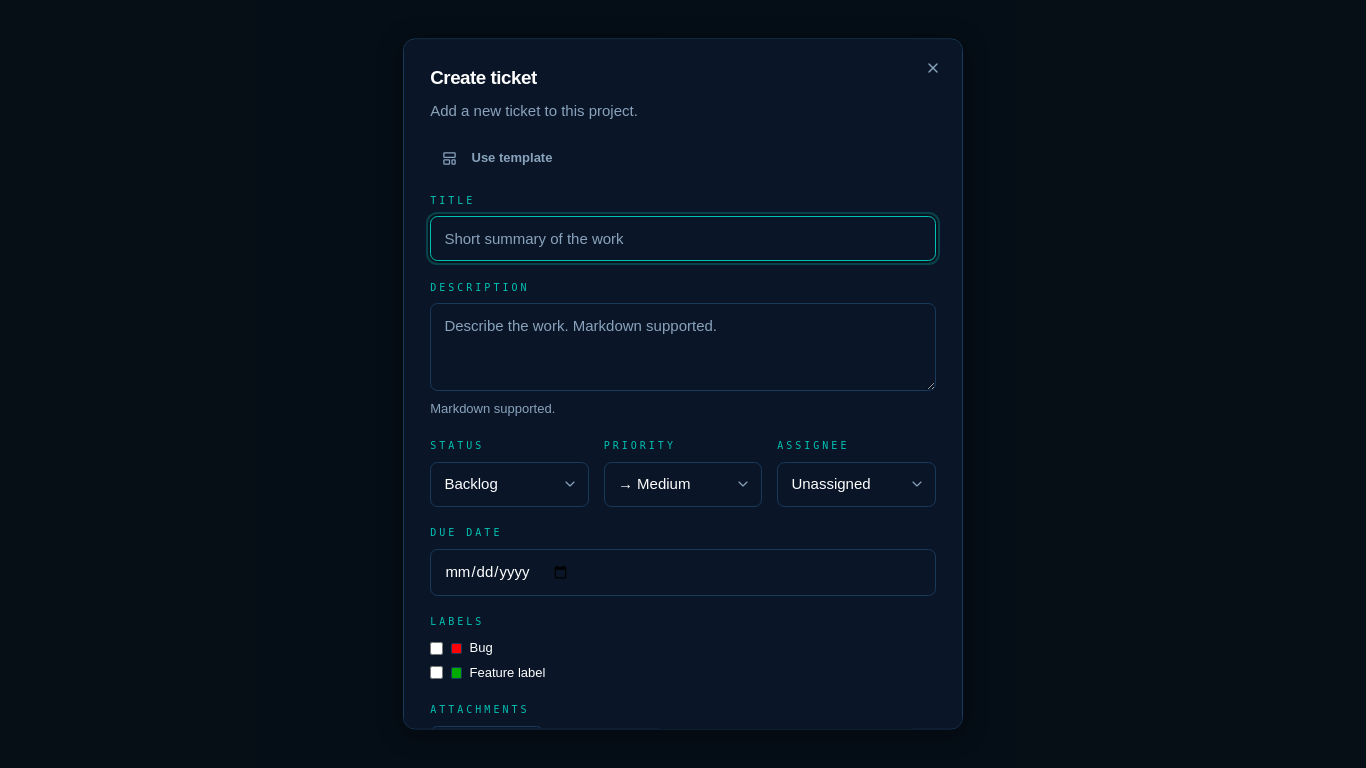
Test: CreateTicketDialog — templates and labels › clicking "Use template" opens a popover with one row per template and a priority badge
Click the button "Use template".
click(497, 158)  # box [430, 142, 564, 174]
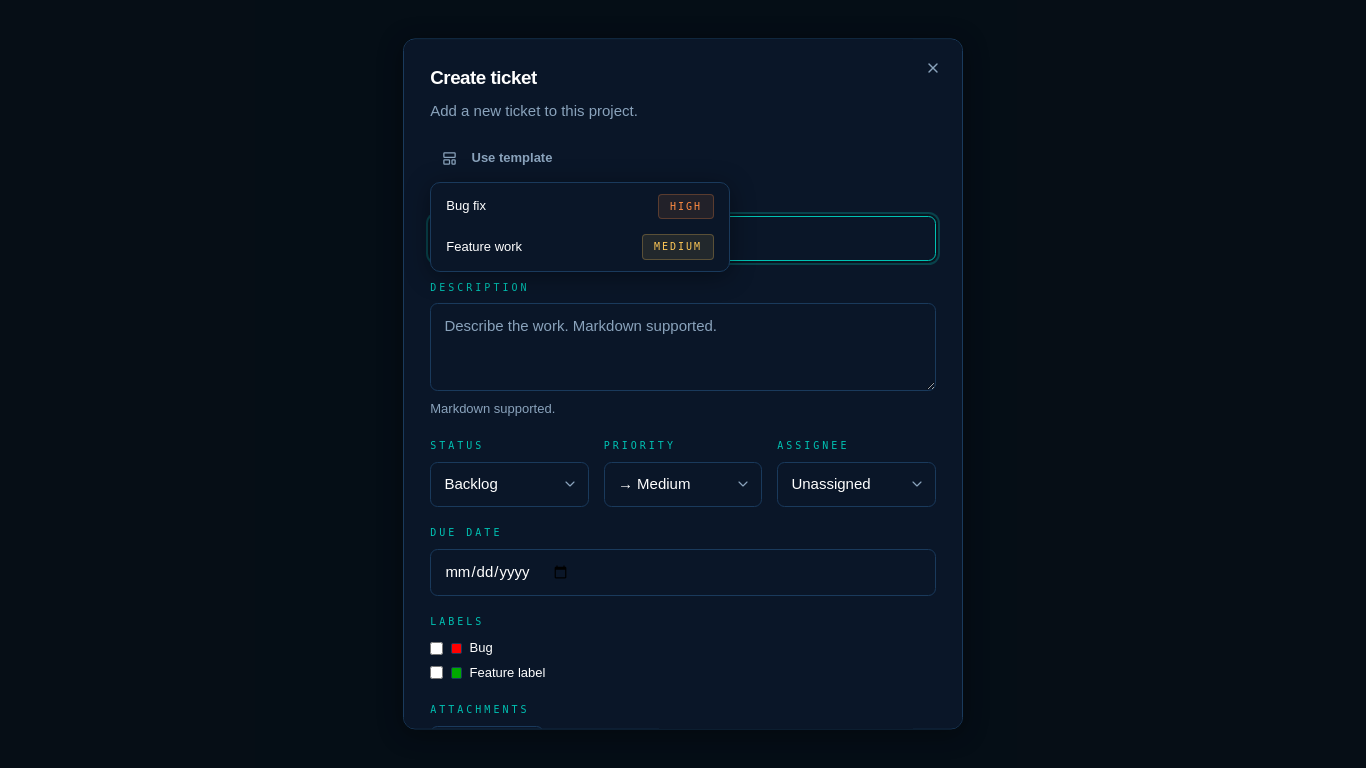
Now the text "Bug fix" is shown, box [446, 197, 486, 218]
Now the text "Feature work" is shown, box [446, 237, 522, 258]
Now the text "HIGH" is shown, box [658, 194, 714, 220]
